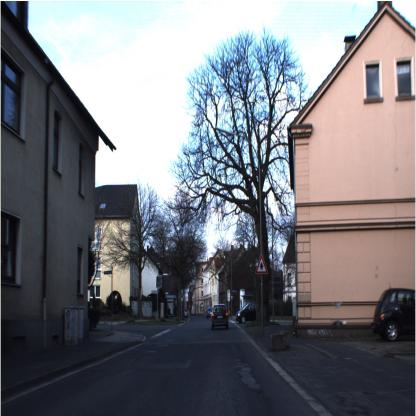priority at next intersection: (255, 253, 268, 274)
